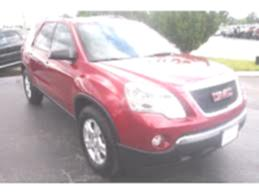GMC: (209, 85, 239, 104)
